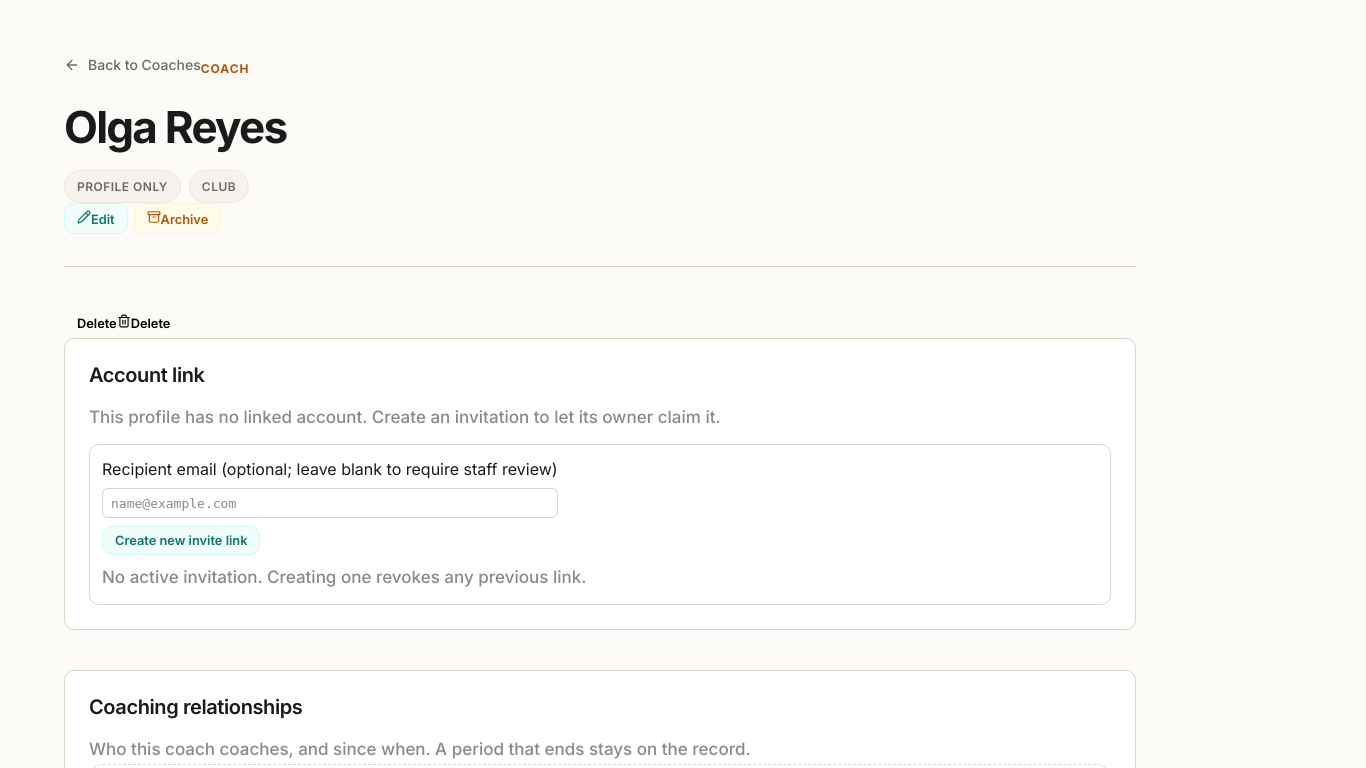
Test case: CoachDetail › archives a coach after confirming
Expected: the heading "Olga Reyes" is shown, [64,100,286,154]
Click the button "Archive".
click(177, 218)  # box [134,203,221,234]
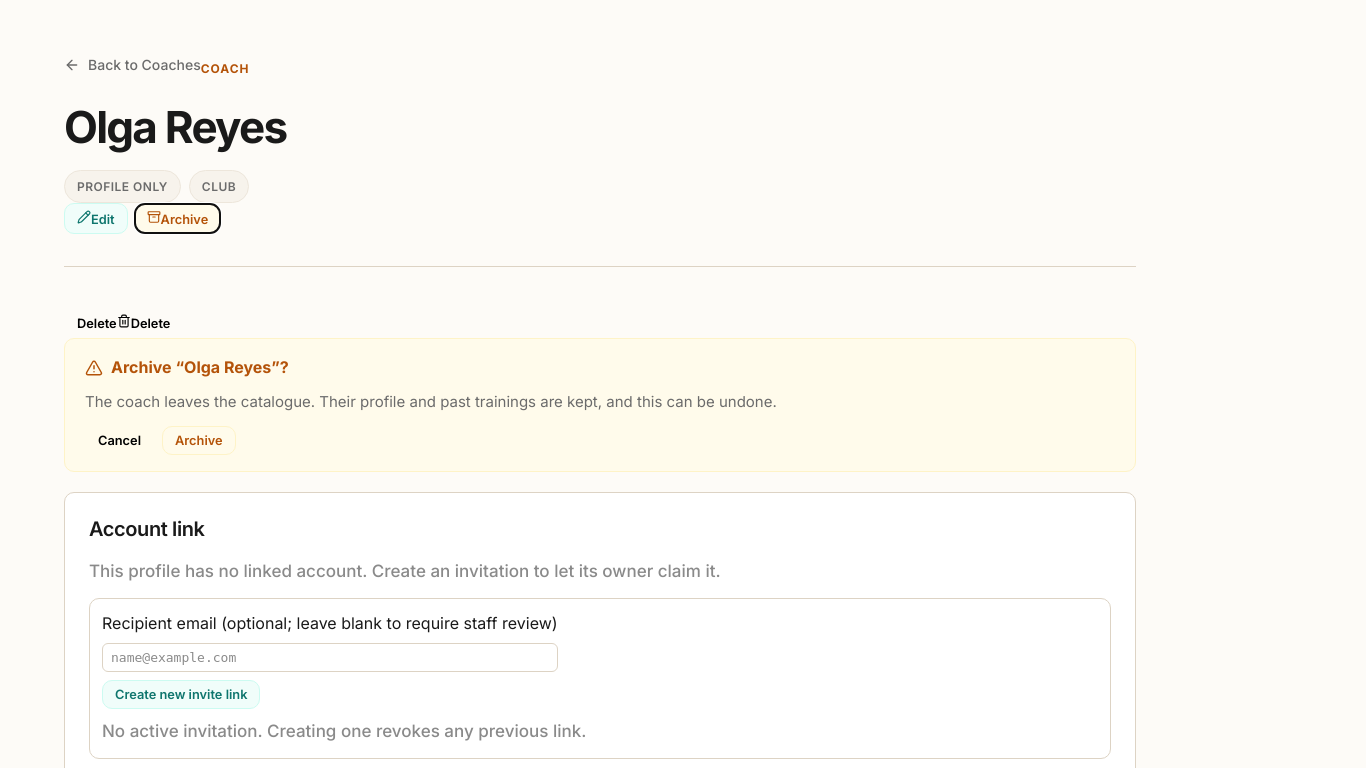
Click the button "Archive" below "Archive “Olga Reyes”?".
click(199, 441)  # box [162,426,236,455]
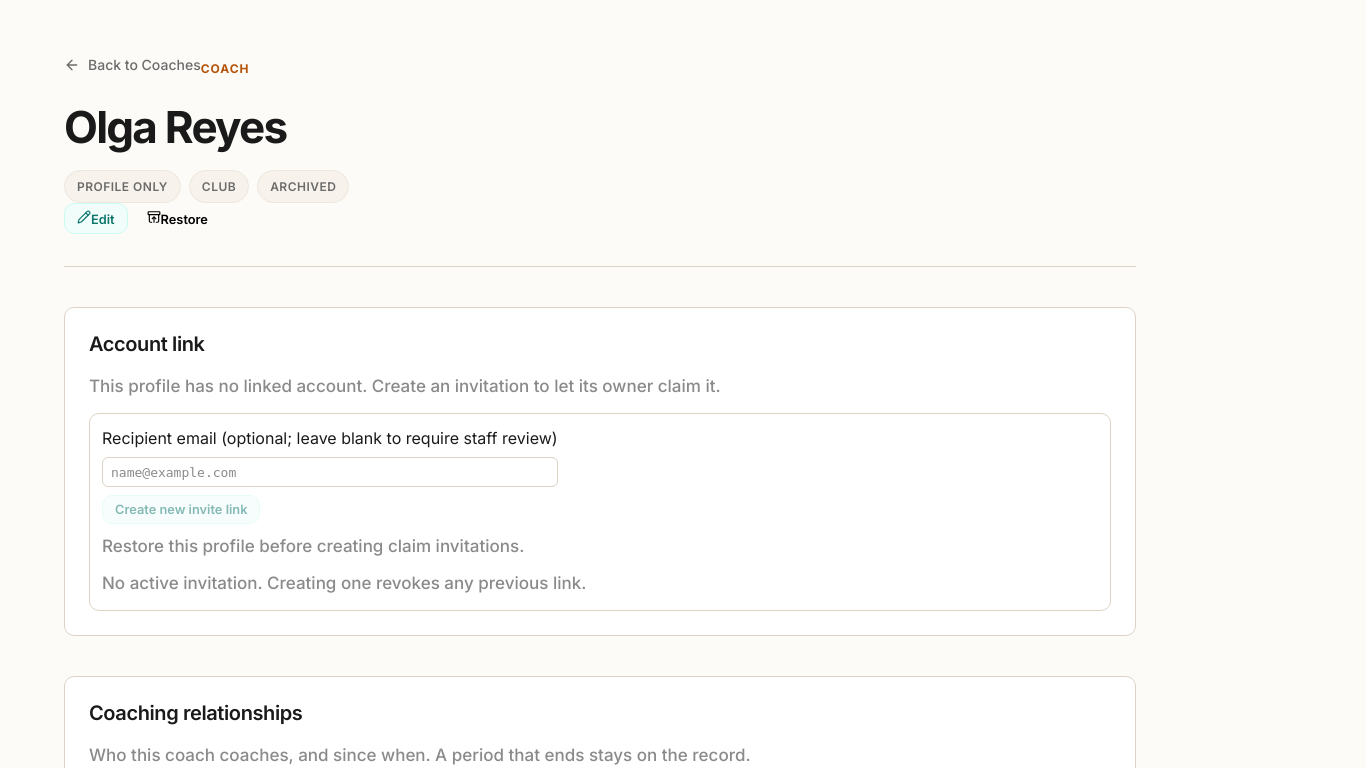
Now the text "Archived" is shown, box [257,170,349,203]
Now the button "Restore" is shown, box [134,203,221,234]
